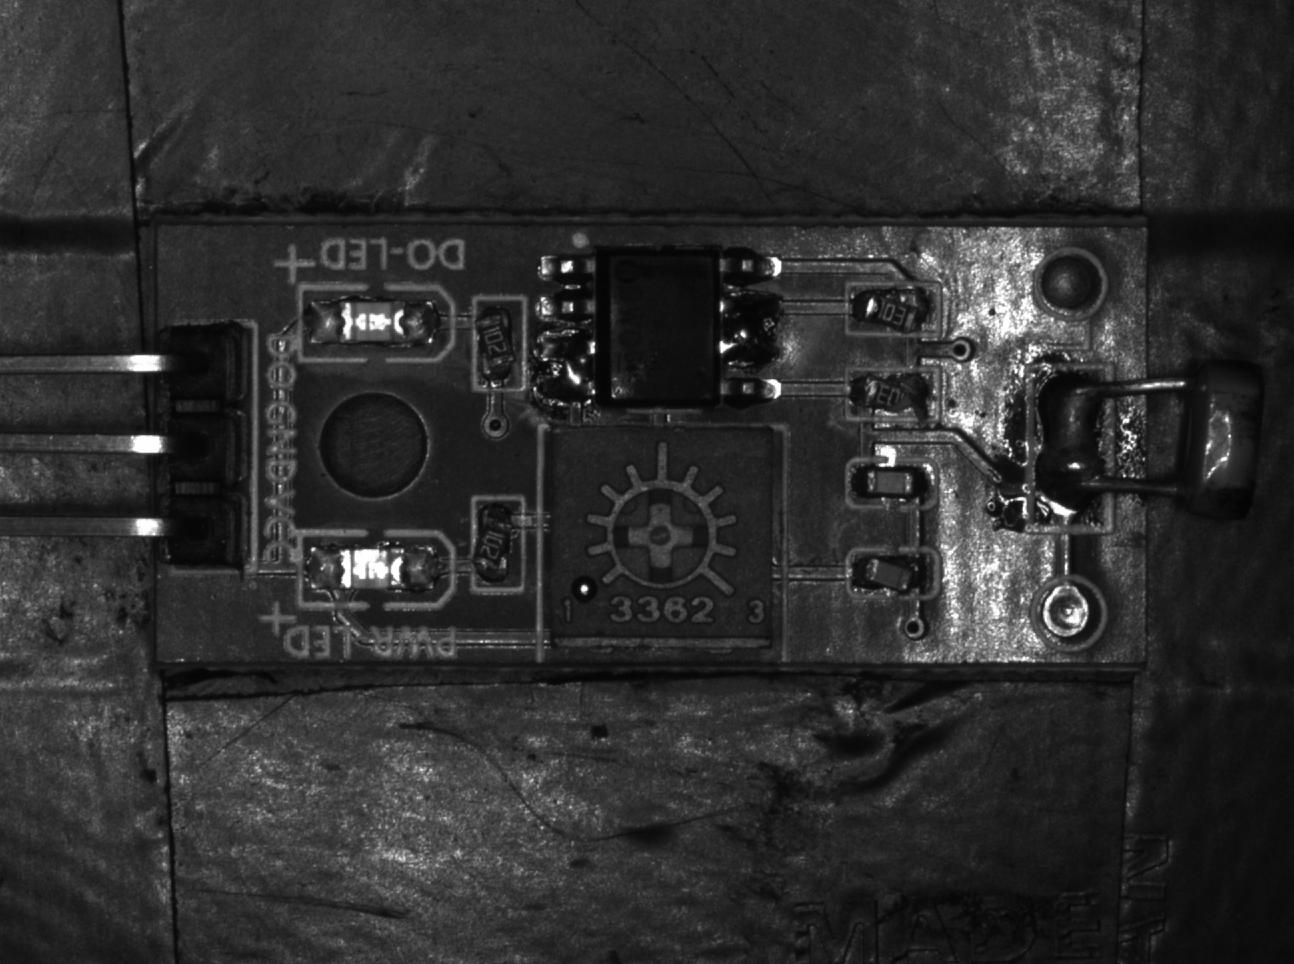bridge: (1029, 368, 1113, 539), (720, 285, 785, 366), (536, 333, 595, 414)
lifted: (846, 282, 943, 338), (471, 295, 522, 391), (473, 498, 522, 593), (848, 548, 939, 598), (850, 367, 940, 416)
ok: (845, 457, 938, 511)
